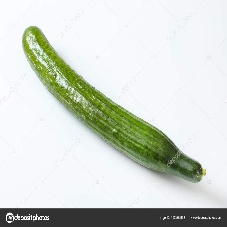cucumber: (21, 26, 207, 185)
